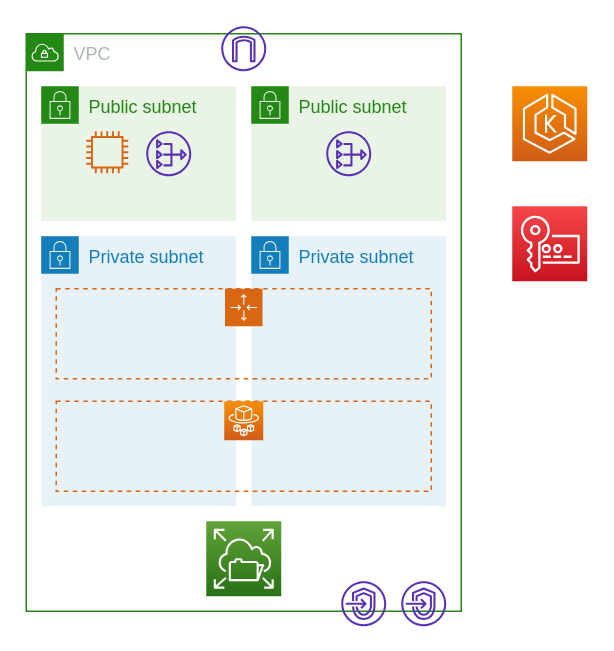
This 614x651 diagram has some shape labels left out. Each missing label, with the box of its shape:
bastion: (86, 130, 128, 172)
EKS Managed Node Group: (55, 287, 431, 379)
Fargate: (223, 400, 263, 440)
